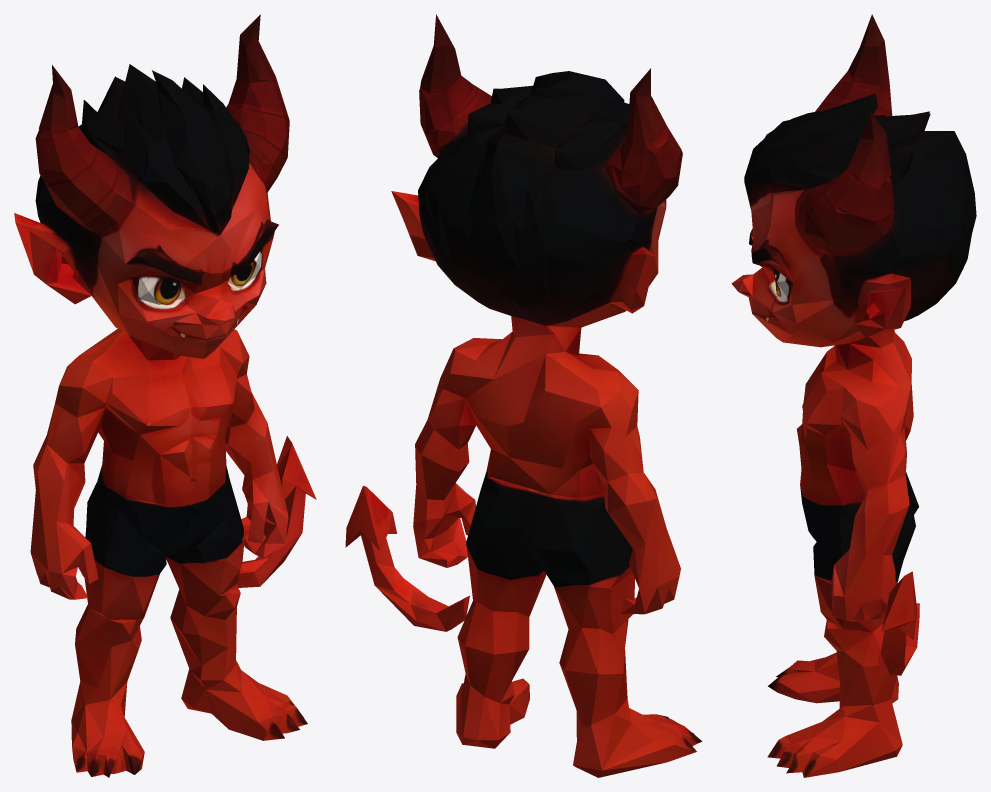
File: base_basic_pbr.fbx
3 views of the same model, side by side, from view 1: azimuth 30°, elevation 25°; view 2: azimuth 150°, elevation 25°; view 3: azimuth 270°, elevation 25° (orthographic). The views are drawn at different scales.
Parts seen in each view (by area): view 1: model; view 2: model; view 3: model.
Part boxes in pixels (x1,y1,x2,y2): model: (14, 14, 316, 777); model: (345, 14, 702, 777); model: (731, 14, 976, 777).
Size of the model in its own units: 85.26 by 190 by 63.66.
Materials: 1 (1 with a texture image).
